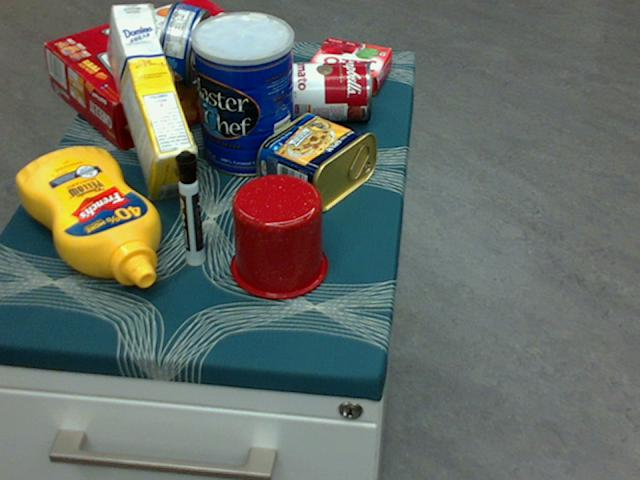cracker_box: (45, 0, 276, 151)
gelatin_box: (307, 39, 391, 93)
large_marker: (174, 150, 204, 264)
master_chef_can: (191, 11, 295, 176)
mug: (228, 172, 327, 298)
mustard_bottle: (15, 147, 160, 287)
potted_meat_can: (256, 110, 377, 212)
sugar_box: (107, 3, 198, 199)
tomato_soup_can: (279, 60, 371, 121)
tuna_fish_can: (156, 0, 210, 86)
